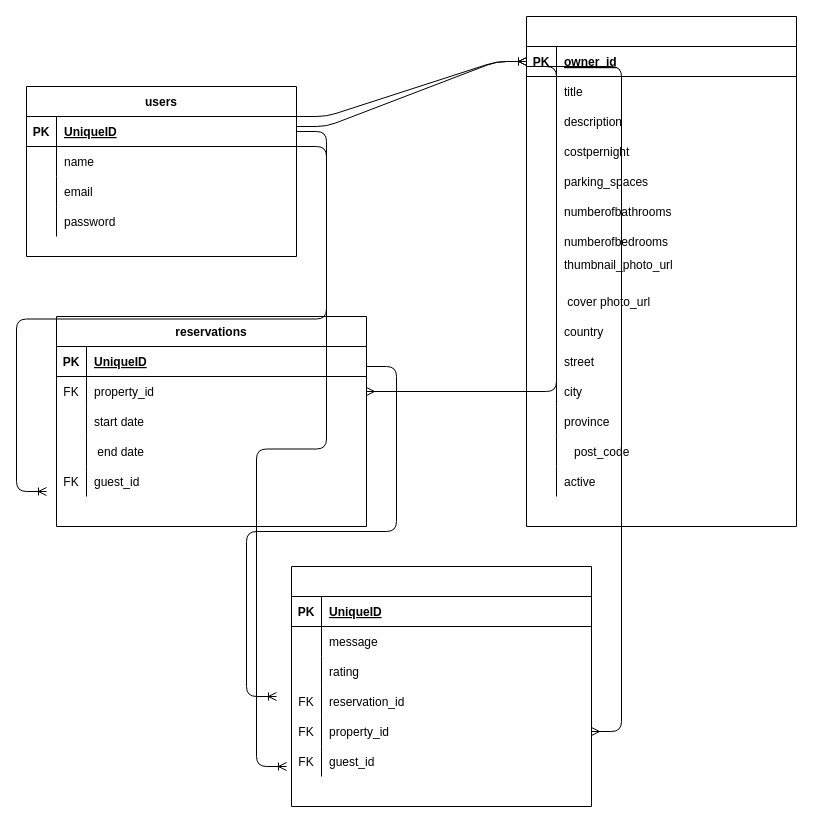
Image size: 813x823. Some labels were removed from this diagram. Here are the shapes that lost their labels. From the top down, the box of each, then its label:
(526, 16, 796, 526): properties
(290, 566, 592, 806): property reviews
